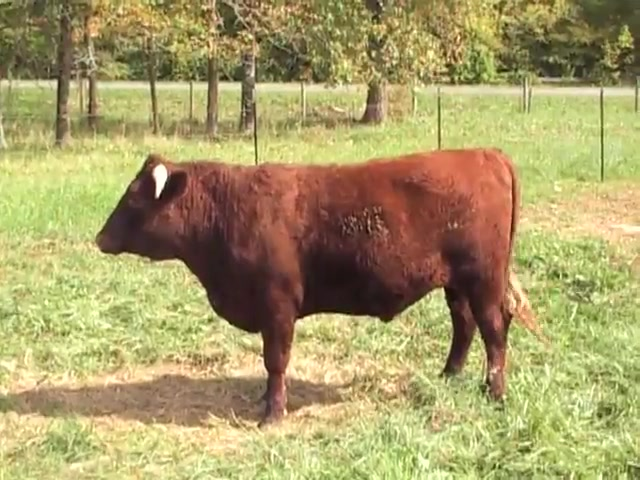cow: (94, 148, 543, 428)
